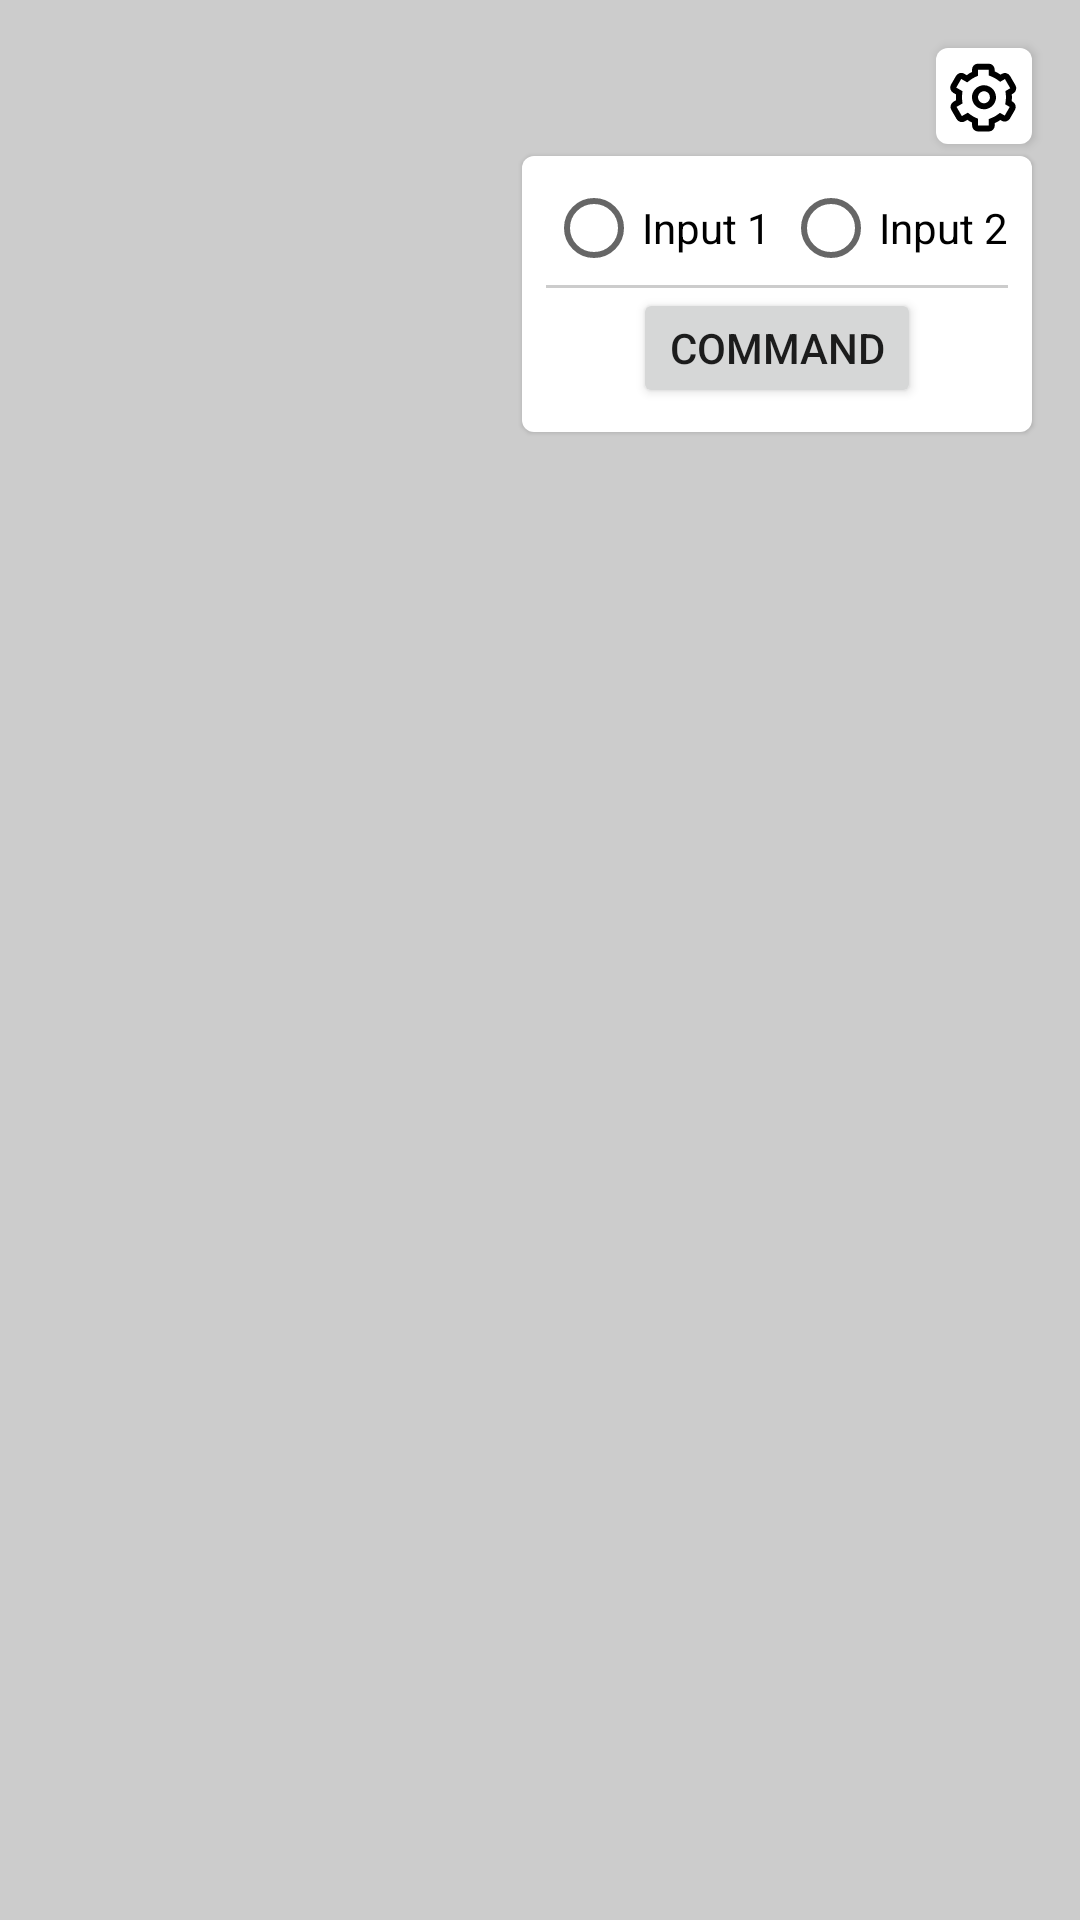

Named icons in this screenshot (1080px x 1920px) and their bounding boxes, (x1, y1, x2, y2):
settings: (936, 48, 1032, 144)
